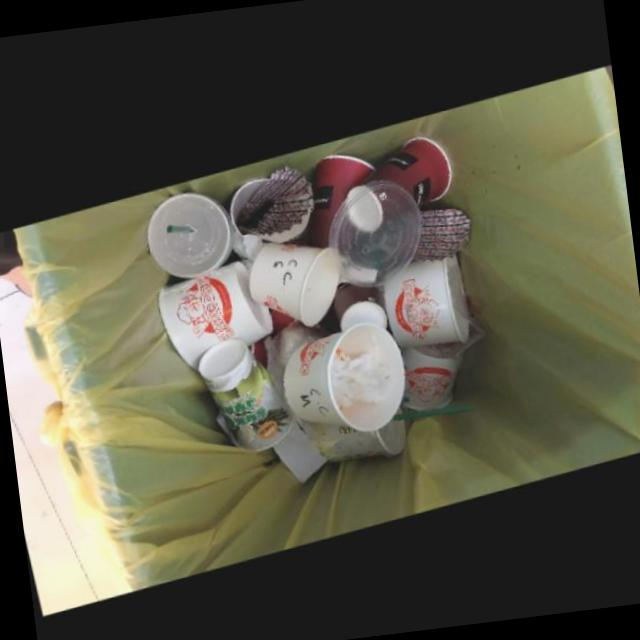carton: (281, 318, 402, 427), (157, 254, 271, 366), (197, 332, 291, 444), (383, 250, 472, 343), (248, 235, 339, 321), (306, 149, 375, 243), (234, 160, 312, 237), (298, 402, 405, 456), (373, 132, 451, 200), (400, 343, 458, 407), (412, 204, 470, 258), (331, 277, 386, 326)
hop_nhua: (326, 175, 420, 283), (145, 185, 234, 266)
ong_hut_nhua: (389, 400, 472, 416), (165, 217, 189, 225)
